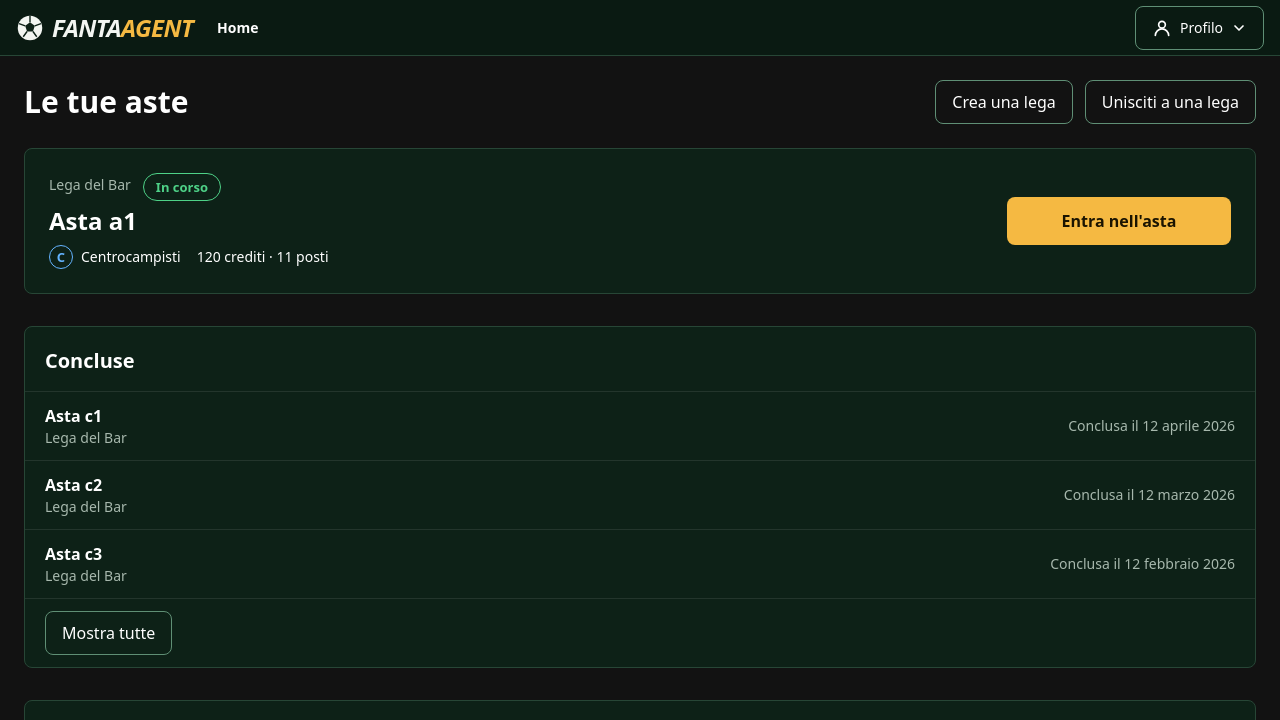
Test: LeaguesRoute › le concluse in un elenco compatto, tre al massimo con Mostra tutte
Click the button "Mostra tutte": (109, 633) [45,611,172,655]
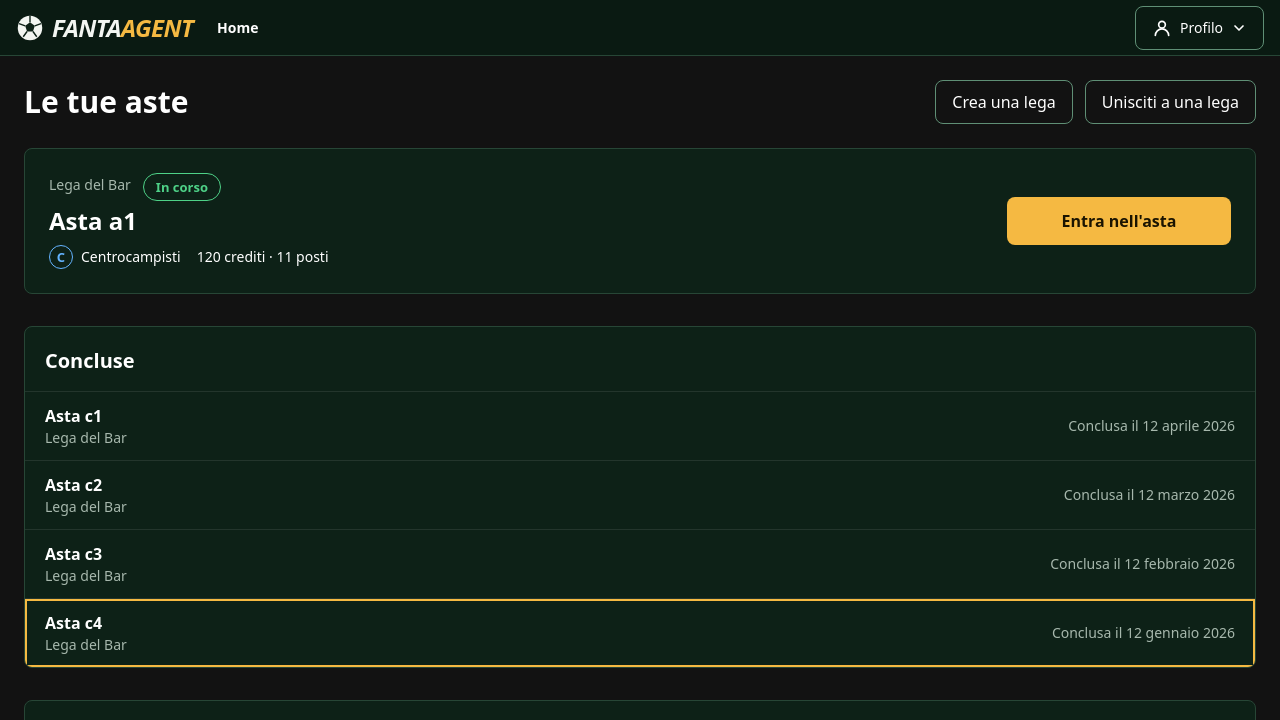
Expected: the button "Mostra tutte" is gone
